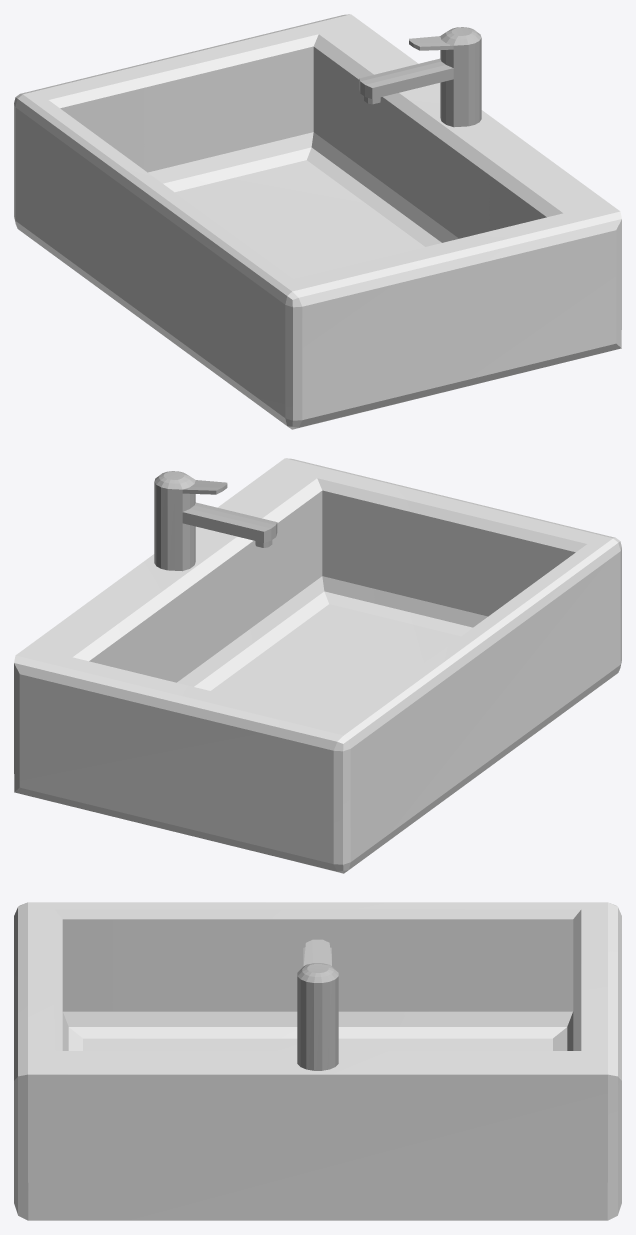
Rendered from Sink.glb.
The picture shows the model from 3 angles, top to bottom: view 1: azimuth 30°, elevation 25°; view 2: azimuth 150°, elevation 25°; view 3: azimuth 270°, elevation 25°; orthographic projection. The views are drawn at different scales.
Parts seen in each view (by area): view 1: Sink; view 2: Sink; view 3: Sink.
Part boxes in pixels (x1,y1,x2,y2): Sink: (14,14,621,429); Sink: (14,458,621,873); Sink: (14,902,621,1220).
Size of the model in its own units: 1.18 by 0.8805 by 1.72.
1 material, 1 textured.
